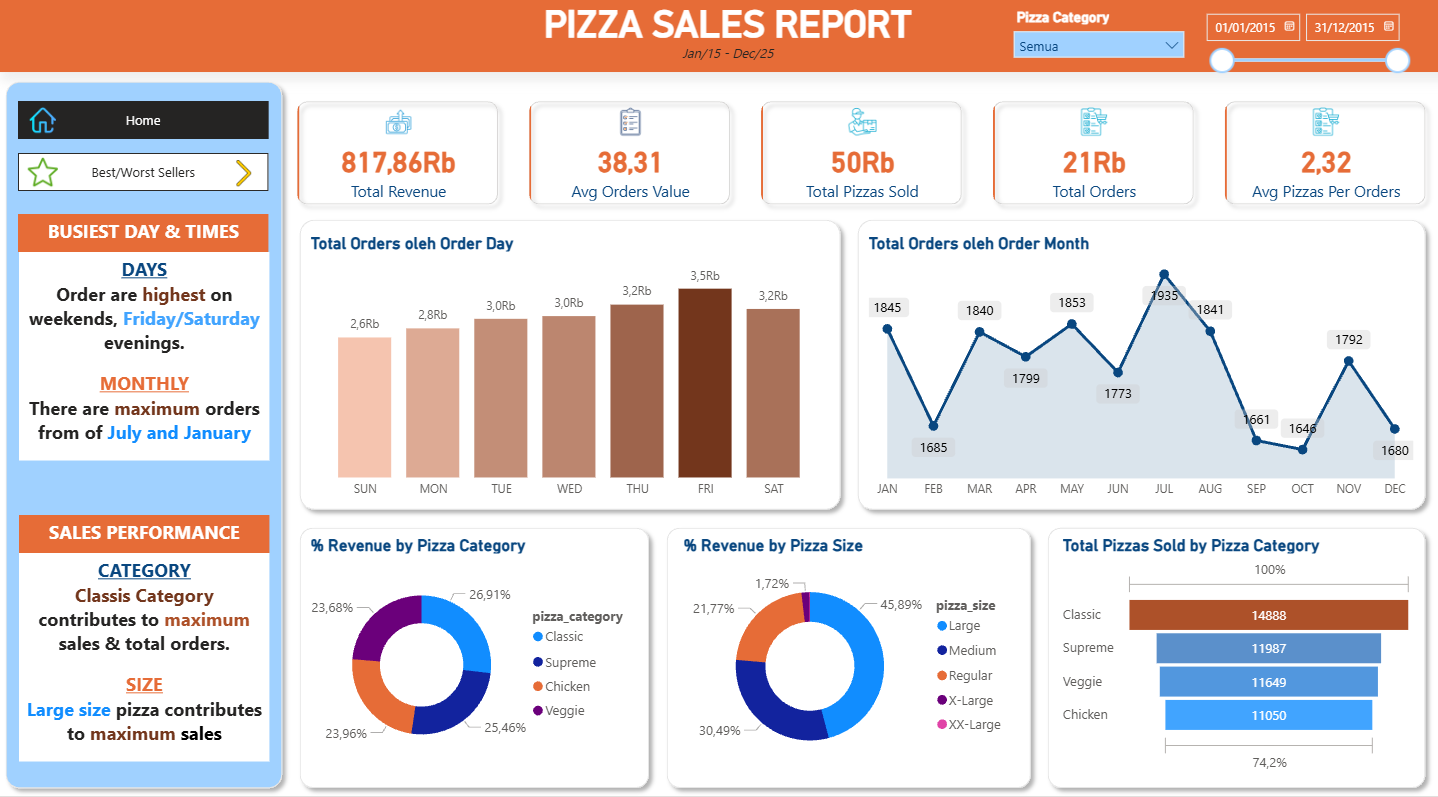

The page's visual inventory and layout, read from the dashboard file:
{"tool":"powerbi","page":{"name":"Home","canvas":[1500,820],"ordinal":0},"visuals":[{"type":"cardVisual","fields":{"Data":["public pizza_sales.Total Revenue","pizza_sales.Avg Orders Value","pizza_sales.Total Pizzas Sold","pizza_sales.Total Orders","pizza_sales.Avg Pizzas Per Orders"]},"box":[279.5,77.5,1220.5,164.7],"z":0},{"type":"textbox","box":[0,0,1500,76.9],"z":1000},{"type":"shape","box":[301.7,220,572.9,315.5],"z":2000},{"type":"clusteredColumnChart","fields":{"Y":["pizza_sales.Total Orders"],"Category":["pizza_sales.Order Day"]},"box":[316.9,242.2,541.1,280.9],"z":3000},{"type":"shape","box":[874.5,220,600.6,315.5],"z":4000},{"type":"areaChart","fields":{"Category":["pizza_sales.Order Month"],"Y":["pizza_sales.Total Orders"]},"box":[889.8,242.2,568.7,280.9],"z":5000},{"type":"shape","box":[301.7,535.5,376.4,285.1],"z":6000},{"type":"shape","box":[678,535.5,391.6,285.1],"z":7000},{"type":"shape","box":[1069.6,535.5,405.4,285.1],"z":8000},{"type":"donutChart","title":"% Revenue by Pizza Category","fields":{"Y":["pizza_sales.Total Revenue"],"Category":["pizza_sales.pizza_category"]},"box":[316.9,552.1,347.3,247.7],"z":9000},{"type":"donutChart","title":"% Revenue by Pizza Size","fields":{"Y":["pizza_sales.Total Revenue"],"Category":["pizza_sales.pizza_size"]},"box":[700.2,552.1,348.7,250.5],"z":10000},{"type":"funnel","title":"Total Pizzas Sold by Pizza Category","fields":{"Y":["pizza_sales.Total Pizzas Sold"],"Category":["pizza_sales.pizza_category"]},"box":[1089,552.1,369.5,247.7],"z":11000},{"type":"shape","box":[0,77.5,301.7,743.1],"z":12000},{"type":"textbox","box":[21.6,222.4,257.4,39.1],"z":13000},{"type":"textbox","box":[22.1,261.5,257.4,214.5],"z":14000},{"type":"textbox","box":[22.1,531.4,257.4,38.7],"z":15000},{"type":"textbox","box":[22.1,570.1,257.4,214.5],"z":16000},{"type":"slicer","fields":{"Values":["pizza_sales.pizza_category"]},"box":[1033.7,6.9,195.1,63.7],"z":17000},{"type":"slicer","fields":{"Values":["pizza_sales.order_date"]},"box":[1228.8,6.9,229.7,80.3],"z":18000},{"type":"pageNavigator","box":[21.6,106.5,257.4,39.1],"z":18001},{"type":"pageNavigator","box":[21.6,160.4,257.4,39.1],"z":18002},{"type":"image","box":[21.6,113.2,51.2,27],"z":18003},{"type":"image","box":[227.8,167.1,51.2,27],"z":18004},{"type":"image","box":[21.6,164.4,51.2,31],"z":18005}]}

Visuals, with their boxes on the page's 1500x820 design canvas (x1, y1, x2, y2). These are canvas units, not pixel positions in the 1438x797 screenshot, which may show the page scaled, cropped or inside an application window:
cardVisual - public pizza_sales.Total Revenue x pizza_sales.Avg Orders Value: {"x1": 280, "y1": 78, "x2": 1500, "y2": 242}
textbox: {"x1": 0, "y1": 0, "x2": 1500, "y2": 77}
shape: {"x1": 302, "y1": 220, "x2": 875, "y2": 536}
clusteredColumnChart - pizza_sales.Total Orders x pizza_sales.Order Day: {"x1": 317, "y1": 242, "x2": 858, "y2": 523}
shape: {"x1": 874, "y1": 220, "x2": 1475, "y2": 536}
areaChart - pizza_sales.Order Month x pizza_sales.Total Orders: {"x1": 890, "y1": 242, "x2": 1458, "y2": 523}
shape: {"x1": 302, "y1": 536, "x2": 678, "y2": 821}
shape: {"x1": 678, "y1": 536, "x2": 1070, "y2": 821}
shape: {"x1": 1070, "y1": 536, "x2": 1475, "y2": 821}
"% Revenue by Pizza Category" donutChart: {"x1": 317, "y1": 552, "x2": 664, "y2": 800}
"% Revenue by Pizza Size" donutChart: {"x1": 700, "y1": 552, "x2": 1049, "y2": 803}
"Total Pizzas Sold by Pizza Category" funnel: {"x1": 1089, "y1": 552, "x2": 1458, "y2": 800}
shape: {"x1": 0, "y1": 78, "x2": 302, "y2": 821}
textbox: {"x1": 22, "y1": 222, "x2": 279, "y2": 262}
textbox: {"x1": 22, "y1": 262, "x2": 280, "y2": 476}
textbox: {"x1": 22, "y1": 531, "x2": 280, "y2": 570}
textbox: {"x1": 22, "y1": 570, "x2": 280, "y2": 785}
slicer - pizza_sales.pizza_category: {"x1": 1034, "y1": 7, "x2": 1229, "y2": 71}
slicer - pizza_sales.order_date: {"x1": 1229, "y1": 7, "x2": 1458, "y2": 87}
pageNavigator: {"x1": 22, "y1": 106, "x2": 279, "y2": 146}
pageNavigator: {"x1": 22, "y1": 160, "x2": 279, "y2": 200}
image: {"x1": 22, "y1": 113, "x2": 73, "y2": 140}
image: {"x1": 228, "y1": 167, "x2": 279, "y2": 194}
image: {"x1": 22, "y1": 164, "x2": 73, "y2": 195}
